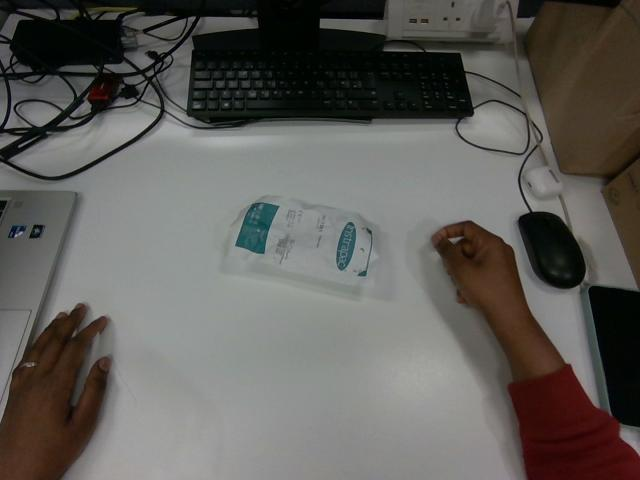gallipot: (229, 196, 377, 285)
